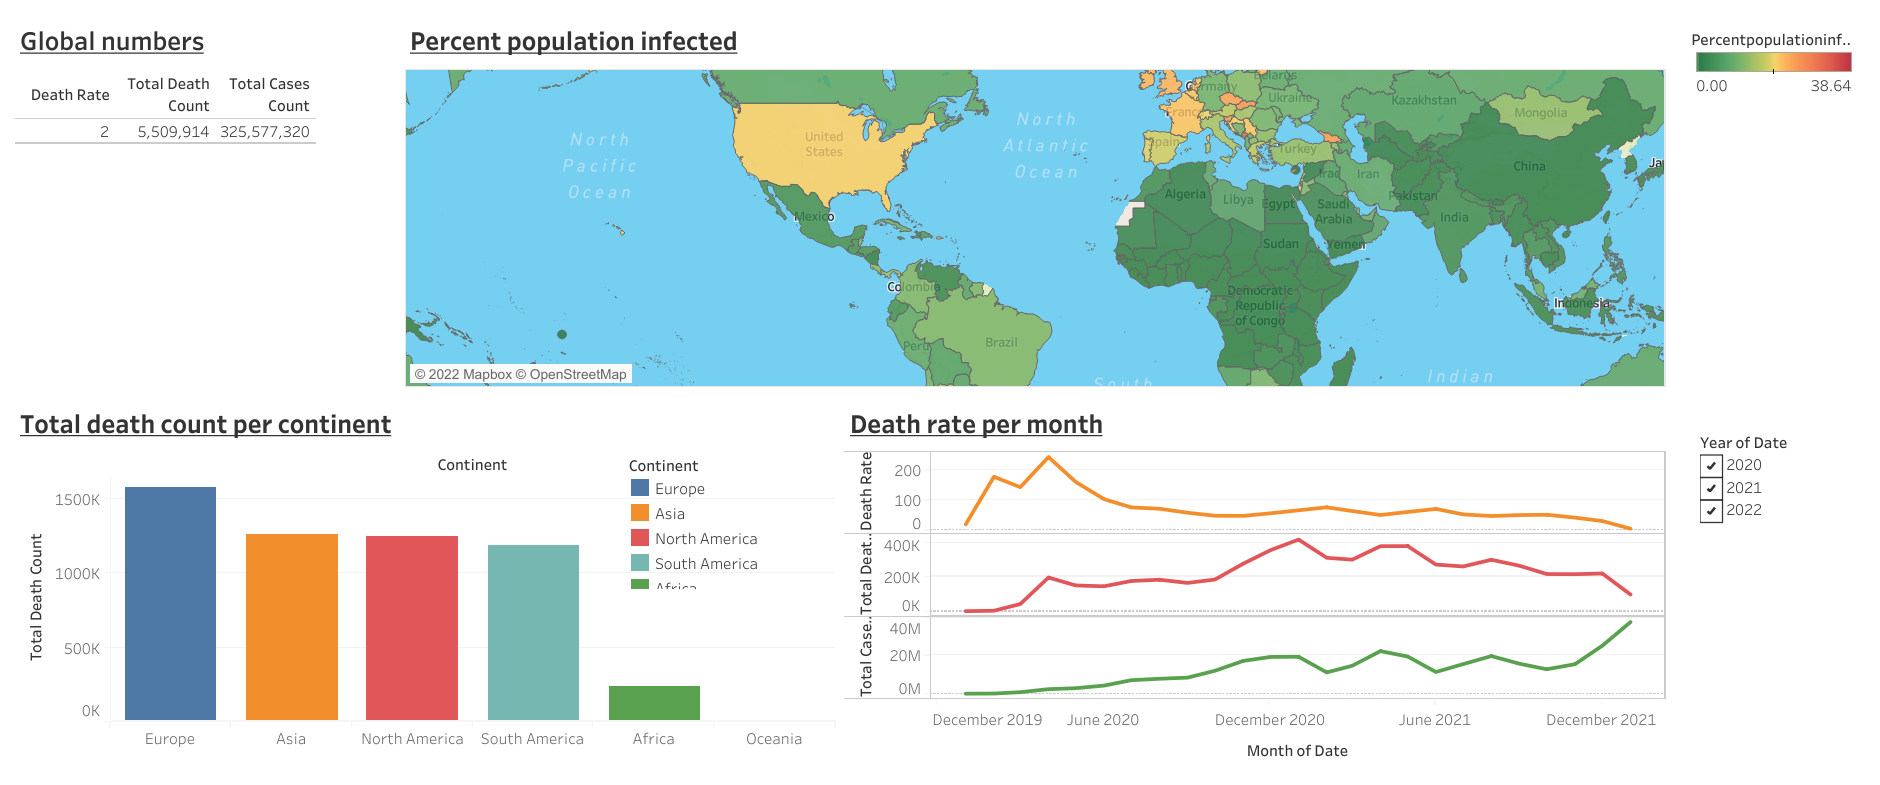

The dashboard page shown, as its layout file describes it:
{"tool":"tableau","page":{"name":"Dashboard 1","canvas":[1000,1000],"units":"permille","ordinal":0},"visuals":[{"type":"worksheet","title":"Sheet 1","mark":"Automatic","box":[4.7,9.4,210.3,490]},{"type":"worksheet","title":"Sheet 2","mark":"Automatic","box":[215,9.4,686.6,490]},{"type":"legend","title":"Sheet 2","param":"[federated.0930ofv1jxo96p11ff4gl04n8n4k].[sum:percentpopulationinfected:qk]","box":[899.2,28.2,87.9,94]},{"type":"worksheet","title":"Sheet 3","mark":"Automatic","rows":["total_death_count"],"cols":["continent"],"box":[4.7,499.4,448.4,491.2]},{"type":"worksheet","title":"Sheet 4","mark":"Automatic","rows":["death_rate","total_death_count","total_cases_count"],"cols":["date"],"box":[453.1,499.4,448.4,491.2]},{"type":"filter","title":"Sheet 4","param":"[federated.0bhot2s0sfi5ek12ch5ei0bjvty0].[yr:date:ok]","box":[903.3,545.2,98.4,150.4]},{"type":"legend","title":"Sheet 3","param":"[federated.1iyjuog12s4osa1ei0uiv0769gif].[none:continent:nk]","box":[333.3,574.6,82,173.9]}]}

Visuals, with their boxes on the dashboard's canvas, which has no fixed pixel size, in thousandths of its width and height (x1, y1, x2, y2). These are canvas units, not pixel positions in the 1880x785 screenshot, which may show the page scaled, cropped or inside an application window:
"Sheet 1" worksheet: <region>5, 9, 215, 499</region>
"Sheet 2" worksheet: <region>215, 9, 902, 499</region>
"Sheet 2" legend: <region>899, 28, 987, 122</region>
"Sheet 3" worksheet: <region>5, 499, 453, 991</region>
"Sheet 4" worksheet: <region>453, 499, 902, 991</region>
"Sheet 4" filter: <region>903, 545, 1002, 696</region>
"Sheet 3" legend: <region>333, 575, 415, 748</region>
